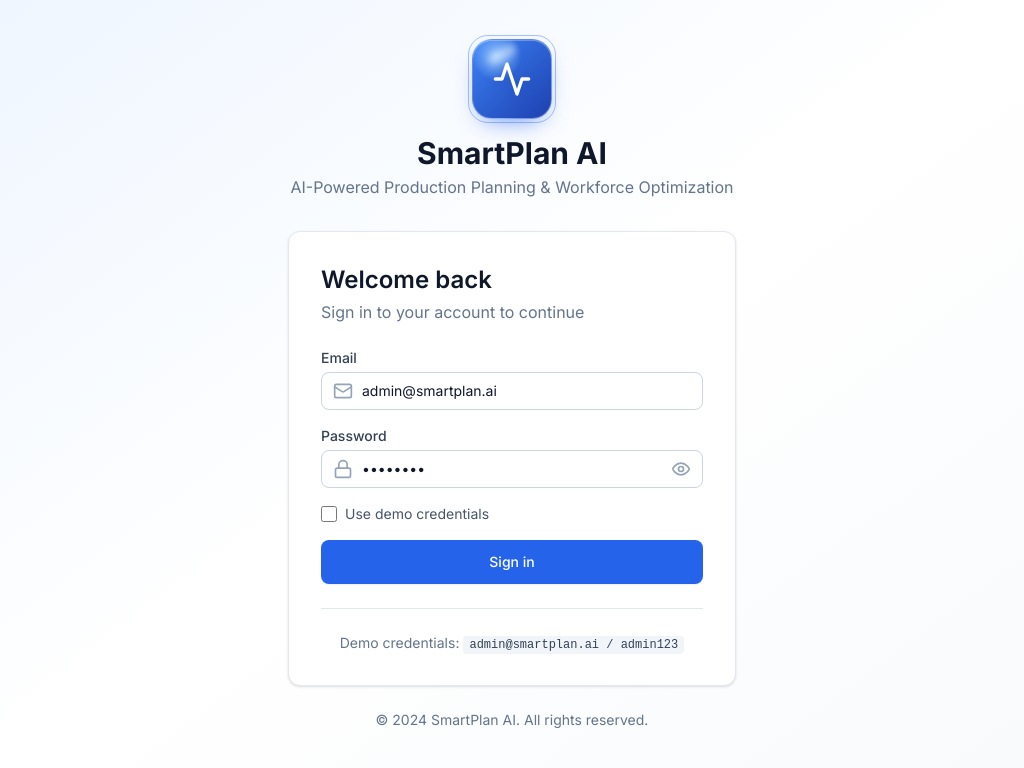
Scenario: LoginPage › shows error on failed login
The image size is (1024, 768).
Type "wrong@email.com" into the field labelled "Email". click: point(512, 390)
box: x1=321 y1=372 x2=703 y2=410
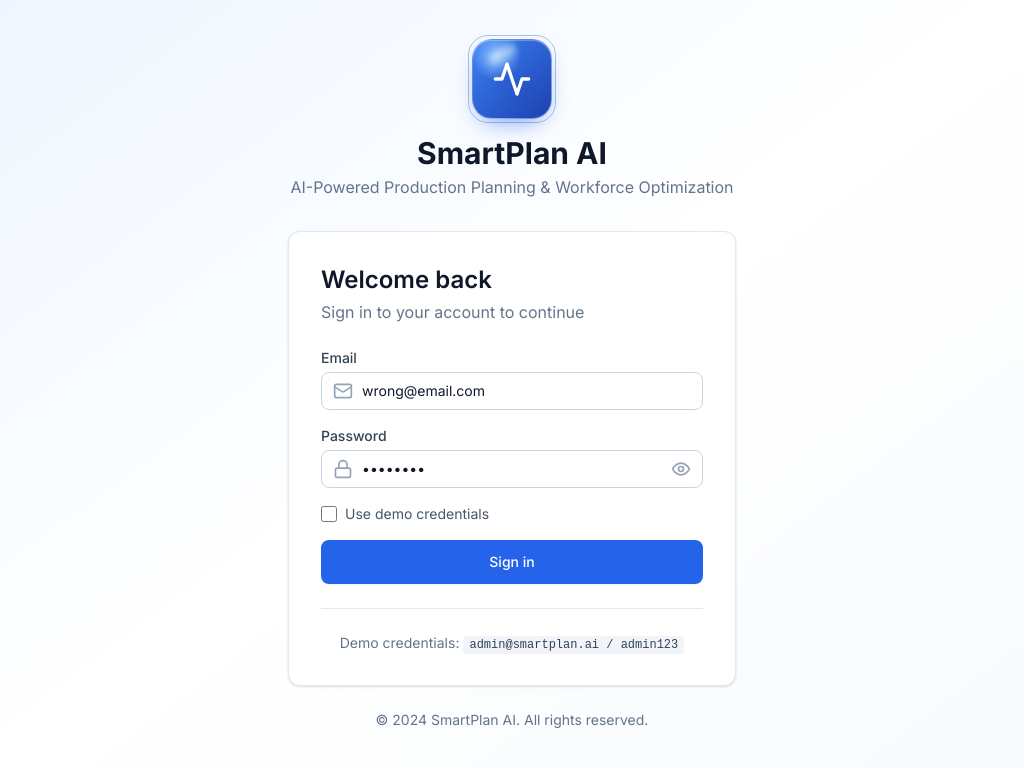
Type "wrongpass" into the password field labelled "Password". click: point(512, 468)
box: x1=321 y1=450 x2=703 y2=488
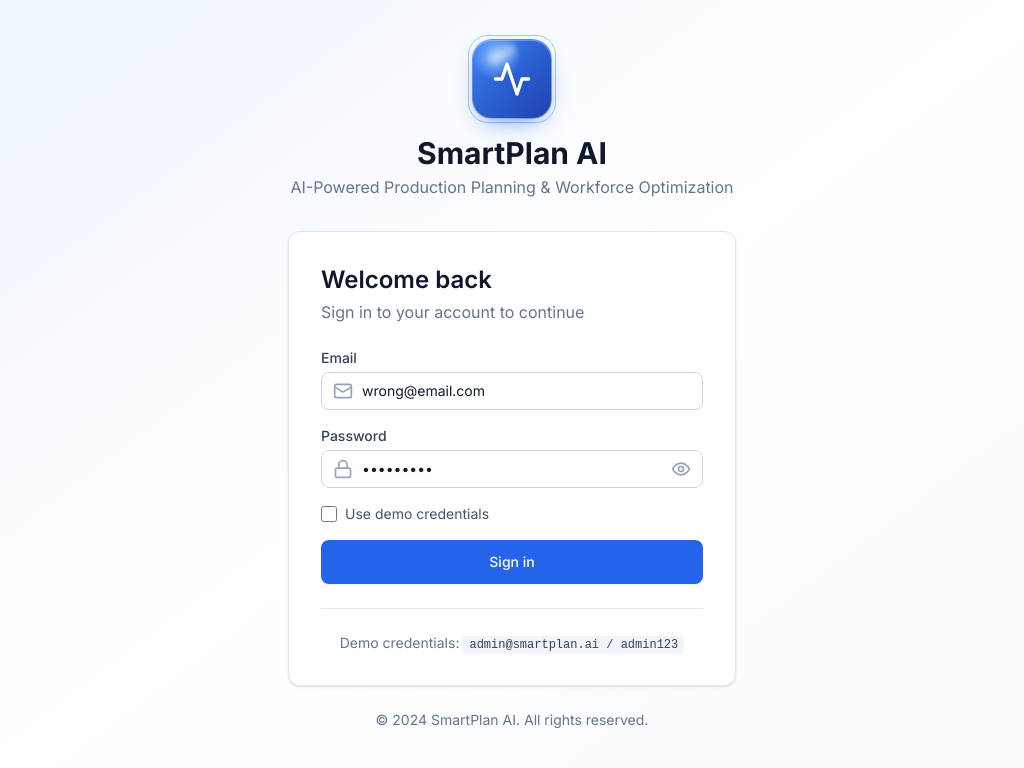
Click the button "Sign in". click: point(512, 562)
box: x1=321 y1=540 x2=703 y2=584
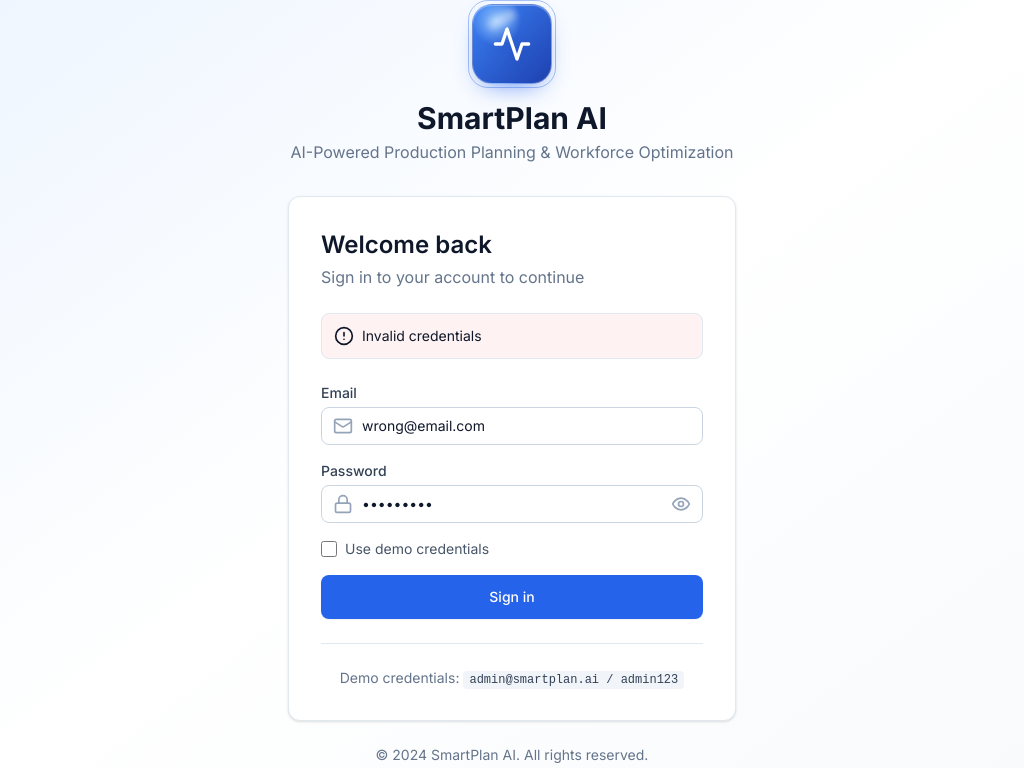
Check: the text "Invalid credentials" is shown, box x1=362 y1=326 x2=482 y2=346
